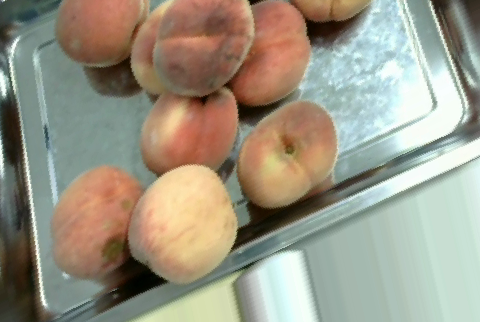Peach: (131, 162, 238, 286), (234, 99, 337, 208), (50, 163, 146, 278), (151, 1, 254, 99), (140, 86, 240, 177), (225, 2, 309, 105), (55, 0, 147, 68)
